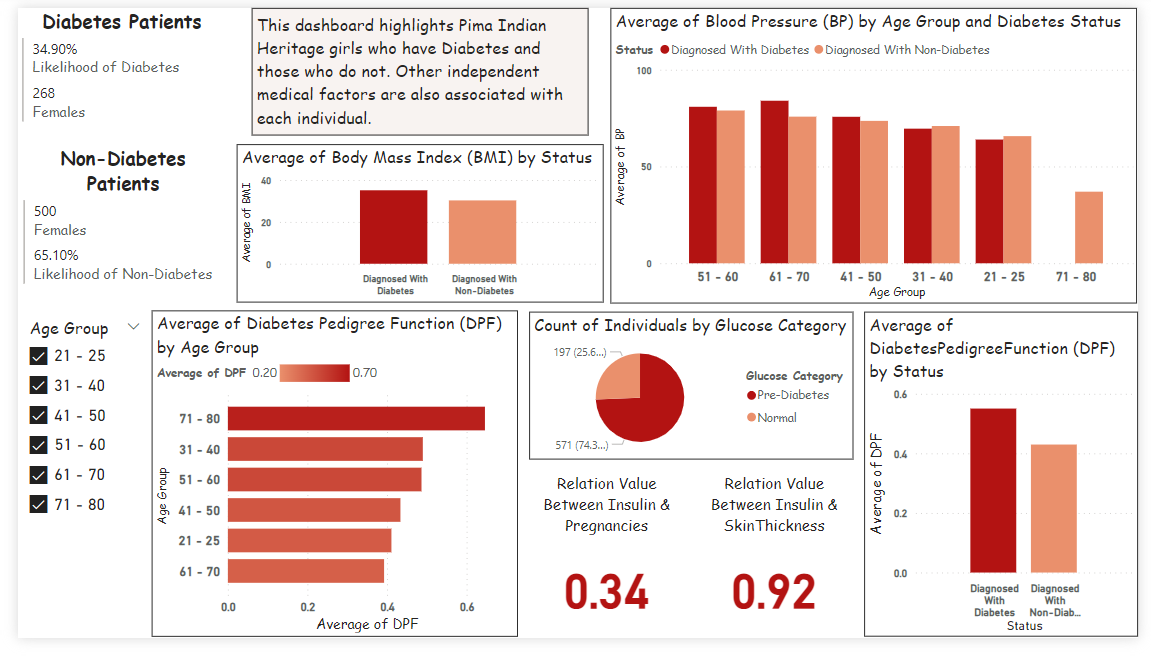

The dashboard page shown, as its layout file describes it:
{"tool":"powerbi","page":{"name":"Part 1","canvas":[1280,720],"ordinal":0},"visuals":[{"type":"multiRowCard","title":"Diabetes Patients","fields":{"Values":["diabetes.DiabetesPercent","diabetes.Count of Diabetes"]},"box":[0,0,237.2,145.3],"z":0},{"type":"multiRowCard","title":"Non-Diabetes Patients","fields":{"Values":["diabetes.Count of Non-Diabetes","diabetes.Non-DiabetesPercent"]},"box":[1.4,156.3,237.2,170],"z":1000},{"type":"clusteredColumnChart","title":"Average of Blood Pressure (BP) by Age Group and Diabetes Status","fields":{"Category":["diabetes.Age Group"],"Y":["Avg(diabetes.BloodPressure)"],"Series":["Dibetes Status.Status"]},"box":[677.3,0,601.9,337.3],"z":2000},{"type":"slicer","fields":{"Values":["Age Group.Age Group"]},"box":[0,346.9,152.2,255],"z":3000},{"type":"textbox","box":[267.7,0,385.1,145.5],"z":4000},{"type":"columnChart","title":"Average of Body Mass Index (BMI) by Status","fields":{"Category":["Dibetes Status.Status"],"Y":["Avg(diabetes.BMI)"]},"box":[249.5,156.3,419.5,181],"z":5000},{"type":"barChart","title":"Average of Diabetes Pedigree Function (DPF) by Age Group","fields":{"Category":["Age Group.Age Group"],"Y":["Avg(diabetes.DiabetesPedigreeFunction)"]},"box":[152.5,346.2,418.8,372.5],"z":6000},{"type":"pieChart","fields":{"Y":["diabetes.Count of Individuals"],"Category":["diabetes.Glucose Category"]},"box":[583.8,347.5,370,168.8],"z":7000},{"type":"columnChart","title":"Average of DiabetesPedigreeFunction (DPF) by Status","fields":{"Category":["Dibetes Status.Status"],"Y":["Avg(diabetes.DiabetesPedigreeFunction)"]},"box":[967.5,347.5,312.5,371.2],"z":8000},{"type":"card","title":"Relation Value Between Insulin & Pregnancies","fields":{"Values":["diabetes.Insulin and Pregnancies correlation for Age Group"]},"box":[577.5,530,191.2,188.8],"z":9000},{"type":"card","title":"Relation Value Between Insulin & SkinThickness","fields":{"Values":["diabetes.Insulin and SkinThickness correlation for Age Group"]},"box":[768.8,530,191.2,188.8],"z":10000}]}

Visuals, with their boxes in screenshot pixels (x1, y1, x2, y2), scaled from the page's 1280x720 canvas onto the 1151x657 screenshot:
"Diabetes Patients" multiRowCard: [0, 0, 213, 133]
"Non-Diabetes Patients" multiRowCard: [1, 143, 215, 298]
"Average of Blood Pressure (BP) by Age Group and Diabetes Status" clusteredColumnChart: [609, 0, 1150, 308]
slicer - Age Group.Age Group: [0, 317, 137, 549]
textbox: [241, 0, 587, 133]
"Average of Body Mass Index (BMI) by Status" columnChart: [224, 143, 602, 308]
"Average of Diabetes Pedigree Function (DPF) by Age Group" barChart: [137, 316, 514, 656]
pieChart - diabetes.Count of Individuals x diabetes.Glucose Category: [525, 317, 858, 471]
"Average of DiabetesPedigreeFunction (DPF) by Status" columnChart: [870, 317, 1150, 656]
"Relation Value Between Insulin & Pregnancies" card: [519, 484, 691, 656]
"Relation Value Between Insulin & SkinThickness" card: [691, 484, 863, 656]
